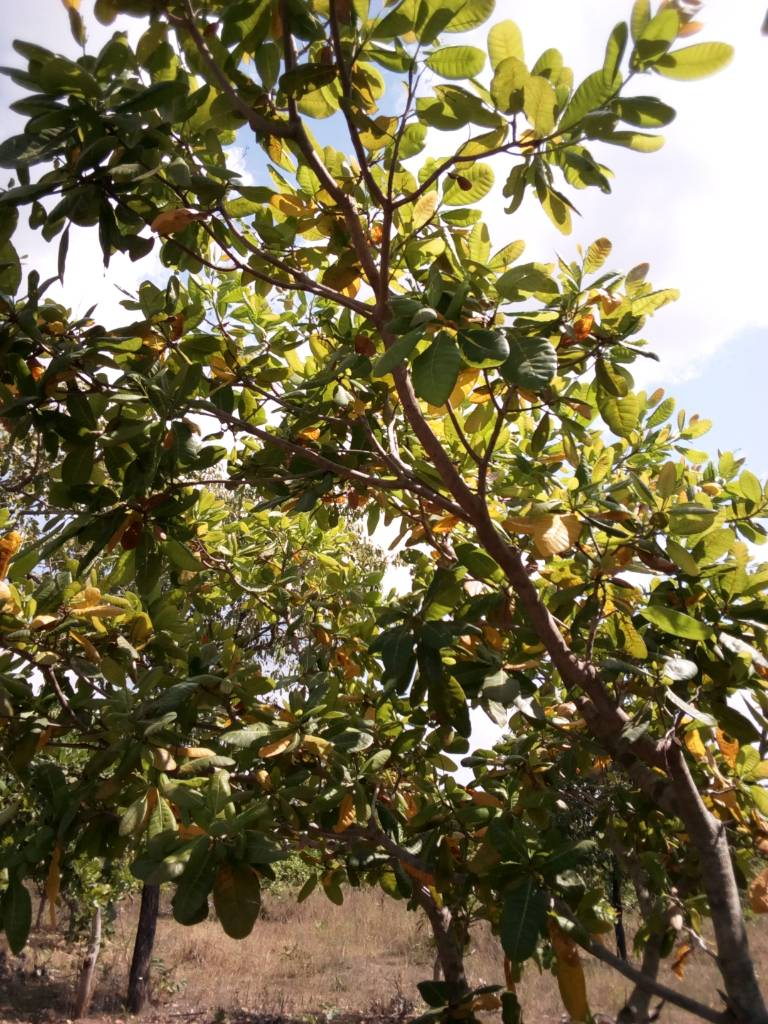Helopeltis anacardii: (508, 330, 557, 392)
